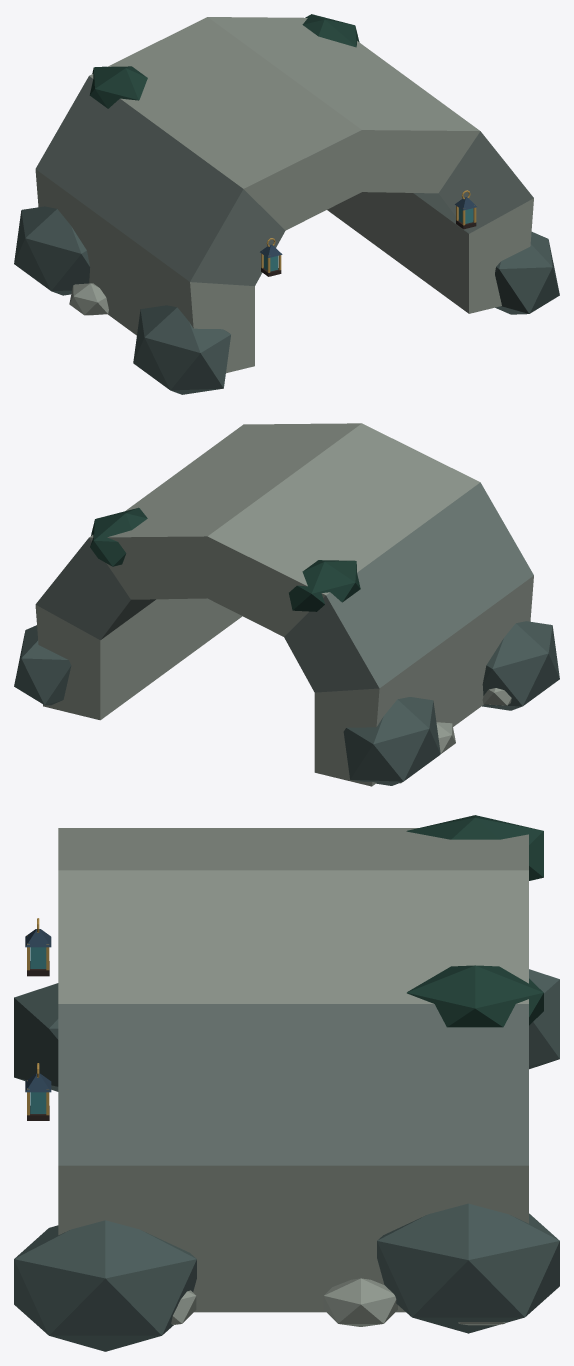
Rendered from PirateCove_SeaCaveShell_Showcase.glb.
The picture shows the model from 3 angles, top to bottom: view 1: azimuth 30°, elevation 25°; view 2: azimuth 150°, elevation 25°; view 3: azimuth 270°, elevation 25°; orthographic projection. The views are drawn at different scales.
Parts seen in each view (by area): view 1: PirateCove_SeaCaveShell_Showcase; view 2: PirateCove_SeaCaveShell_Showcase; view 3: PirateCove_SeaCaveShell_Showcase.
Boxes of the visible parts, <box> form: PirateCove_SeaCaveShell_Showcase: <box>14,14,559,394</box>; PirateCove_SeaCaveShell_Showcase: <box>14,423,559,786</box>; PirateCove_SeaCaveShell_Showcase: <box>14,815,559,1351</box>.
Bounding box in the file's own units: 10.57 × 5.9 × 8.12.
